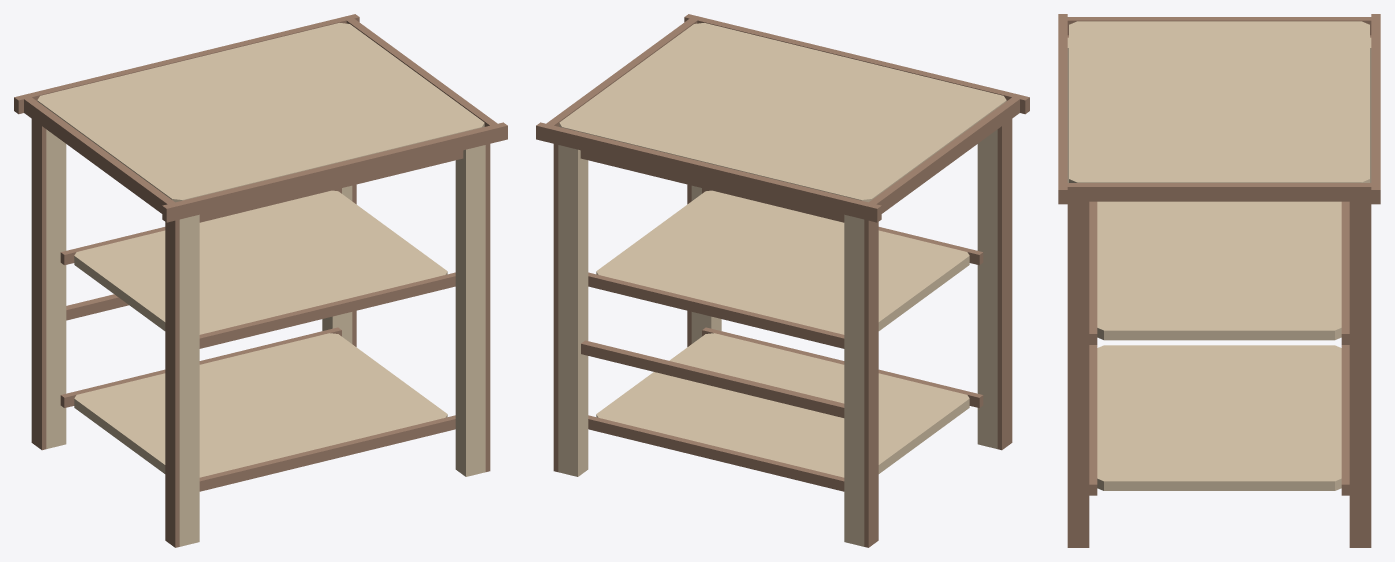
3 renders of one model, left to right at view 1: azimuth 30°, elevation 25°; view 2: azimuth 150°, elevation 25°; view 3: azimuth 270°, elevation 25°, orthographic. The views are drawn at different scales.
Visible parts, largest first — view 1: P020 Top oak plane, P009 Lower oak plane, P012 Middle oak plane, P005 Oak blade leg 21, P001 Oak blade leg 11, P016 Top projecting sapele line, P003 Oak blade leg 12, P004 Sapele outer edge 12, P002 Sapele outer edge 11, P010 Lower sapele line, P013 Middle sapele line, P018 Top side sapele line (+8 smaller); view 2: P020 Top oak plane, P012 Middle oak plane, P009 Lower oak plane, P007 Oak blade leg 22, P003 Oak blade leg 12, P017 Top projecting sapele line, P001 Oak blade leg 11, P002 Sapele outer edge 11, P004 Sapele outer edge 12, P015 Single rear stretcher, P011 Lower sapele line, P014 Middle sapele line (+8 smaller); view 3: P020 Top oak plane, P009 Lower oak plane, P012 Middle oak plane, P006 Sapele outer edge 21, P008 Sapele outer edge 22, P019 Top side sapele line, P016 Top projecting sapele line, P017 Top projecting sapele line, P018 Top side sapele line, P010 Lower sapele line, P011 Lower sapele line, P013 Middle sapele line (+1 smaller).
Part boxes in pixels (<box>): P020 Top oak plane: <box>37,23,484,202</box>; P009 Lower oak plane: <box>74,333,447,477</box>; P012 Middle oak plane: <box>74,190,447,334</box>; P005 Oak blade leg 21: <box>455,145,485,476</box>; P001 Oak blade leg 11: <box>179,214,199,546</box>; P016 Top projecting sapele line: <box>162,122,507,222</box>; P003 Oak blade leg 12: <box>46,129,66,448</box>; P004 Sapele outer edge 12: <box>31,119,46,450</box>; P002 Sapele outer edge 11: <box>165,219,179,547</box>; P010 Lower sapele line: <box>199,415,455,491</box>; P013 Middle sapele line: <box>199,272,455,348</box>; P018 Top side sapele line: <box>24,97,174,213</box>; P020 Top oak plane: <box>559,23,1006,202</box>; P012 Middle oak plane: <box>596,190,969,334</box>; P009 Lower oak plane: <box>596,333,969,477</box>; P007 Oak blade leg 22: <box>558,145,588,476</box>; P003 Oak blade leg 12: <box>844,214,864,546</box>; P017 Top projecting sapele line: <box>536,122,881,222</box>; P001 Oak blade leg 11: <box>977,129,997,448</box>; P002 Sapele outer edge 11: <box>997,119,1012,450</box>; P004 Sapele outer edge 12: <box>864,219,878,547</box>; P015 Single rear stretcher: <box>581,340,844,417</box>; P011 Lower sapele line: <box>588,415,844,491</box>; P014 Middle sapele line: <box>588,272,844,348</box>; P020 Top oak plane: <box>1069,21,1369,182</box>; P009 Lower oak plane: <box>1097,345,1341,490</box>; P012 Middle oak plane: <box>1097,201,1341,340</box>; P006 Sapele outer edge 21: <box>1067,201,1089,547</box>; P008 Sapele outer edge 22: <box>1349,201,1371,547</box>; P019 Top side sapele line: <box>1067,183,1371,201</box>; P016 Top projecting sapele line: <box>1058,14,1067,204</box>; P017 Top projecting sapele line: <box>1371,14,1380,204</box>; P018 Top side sapele line: <box>1067,17,1371,35</box>; P010 Lower sapele line: <box>1089,345,1097,495</box>; P011 Lower sapele line: <box>1341,345,1349,495</box>; P013 Middle sapele line: <box>1089,201,1097,344</box>.
Bounding box in the file's own units: 0.62 × 0.6 × 0.48.
